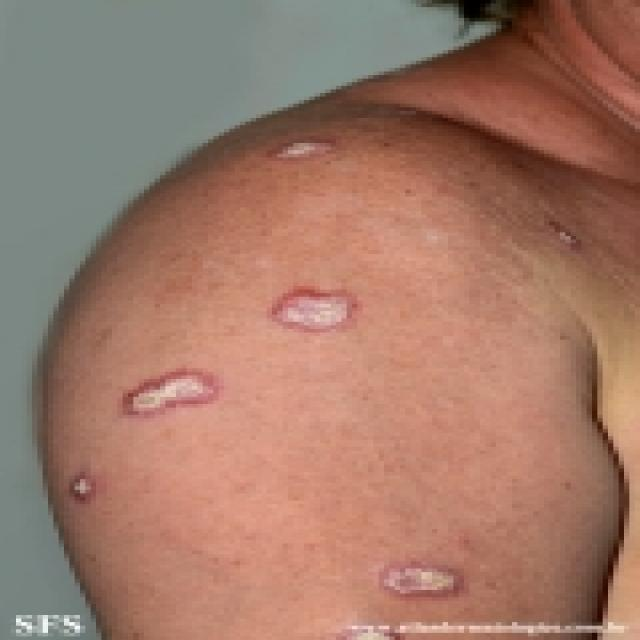lupus: (63, 274, 475, 610)
